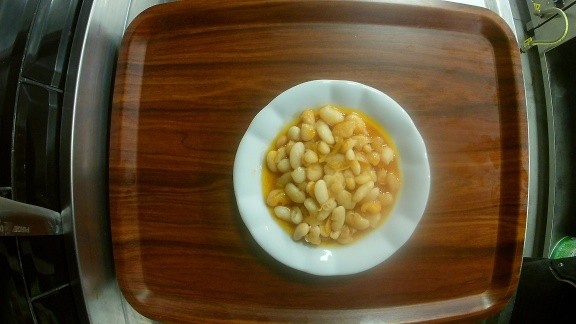kurufasulye: (230, 78, 432, 278)
